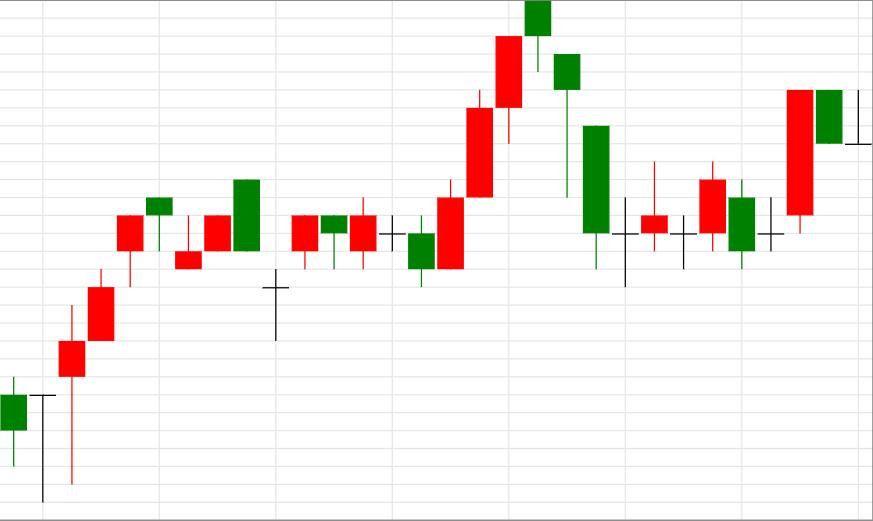three_white_soldiers_rise: (292, 0, 552, 288)
